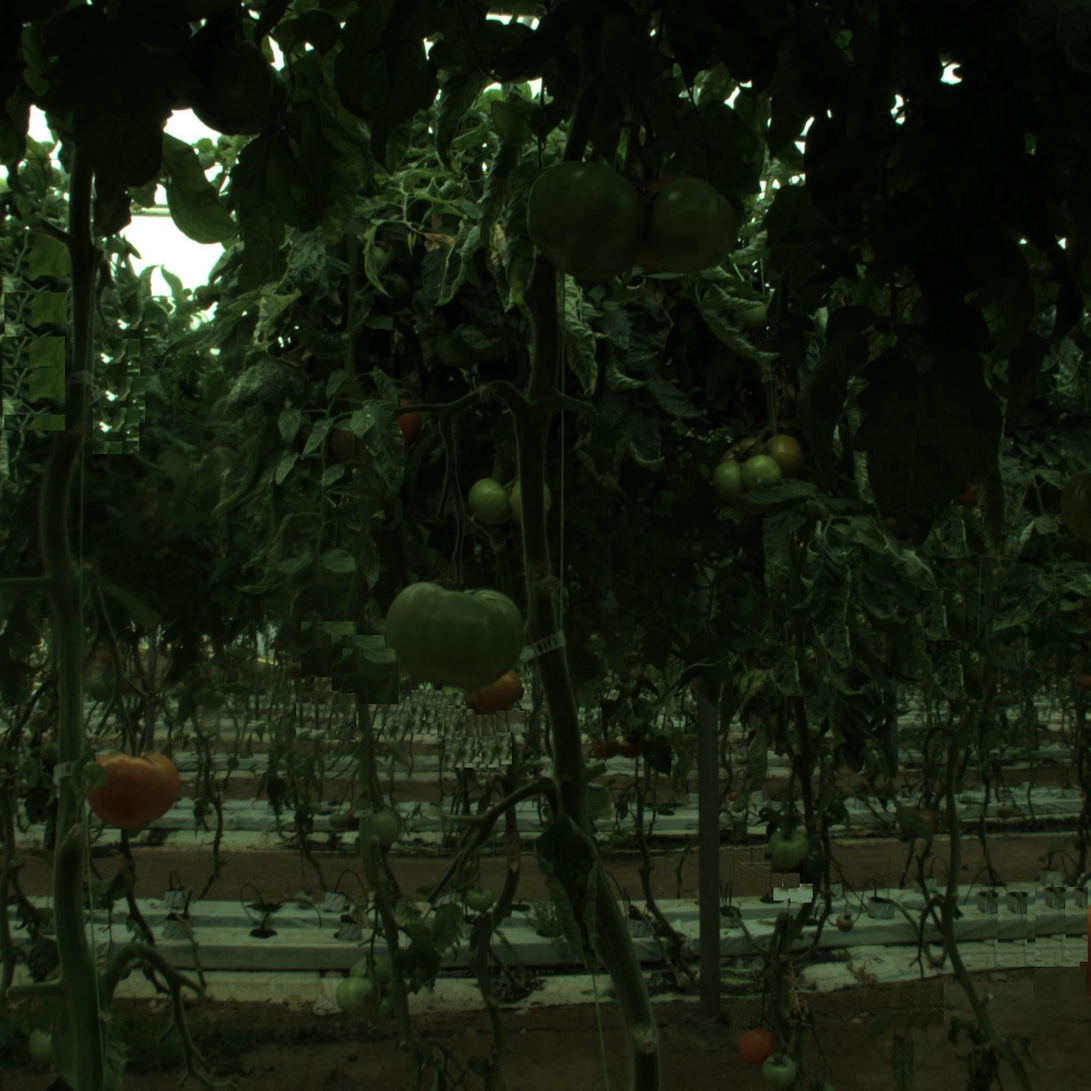fully-ripe: (738, 1027, 772, 1062)
semi-ripe: (94, 749, 177, 832), (461, 661, 523, 722), (761, 436, 802, 477)
unripe: (523, 155, 646, 278), (392, 566, 514, 688), (646, 177, 742, 273), (466, 478, 511, 523), (335, 976, 380, 1021), (741, 458, 786, 503), (344, 957, 388, 1002), (709, 461, 753, 506), (362, 807, 404, 849), (769, 831, 811, 872), (763, 1054, 798, 1089)
